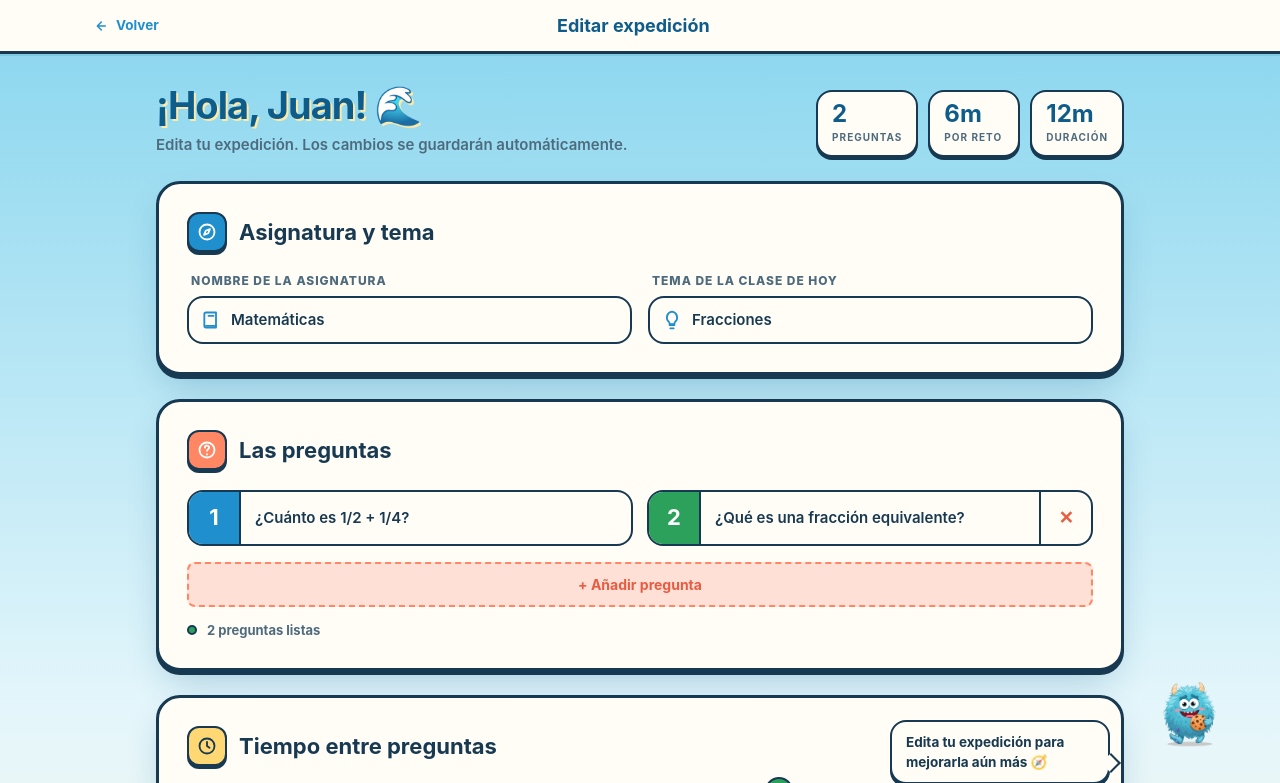
EditSession › valida que haya mínimo 1 pregunta
Clear the 3rd field with placeholder "Pregunta 1…" at (436, 518), box [241,492,631,544]
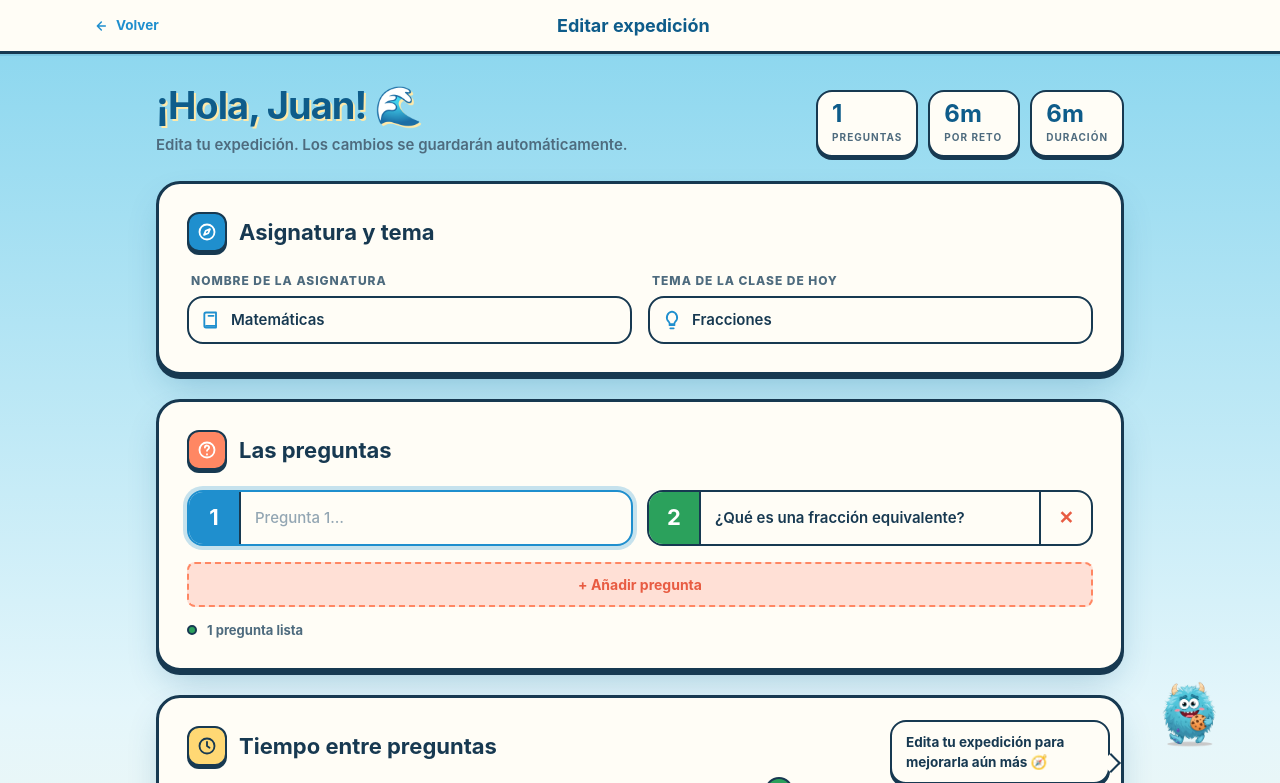
Clear the 3rd field with placeholder "Pregunta 2…" at (870, 518), box [701,492,1039,544]
(page scrolled)
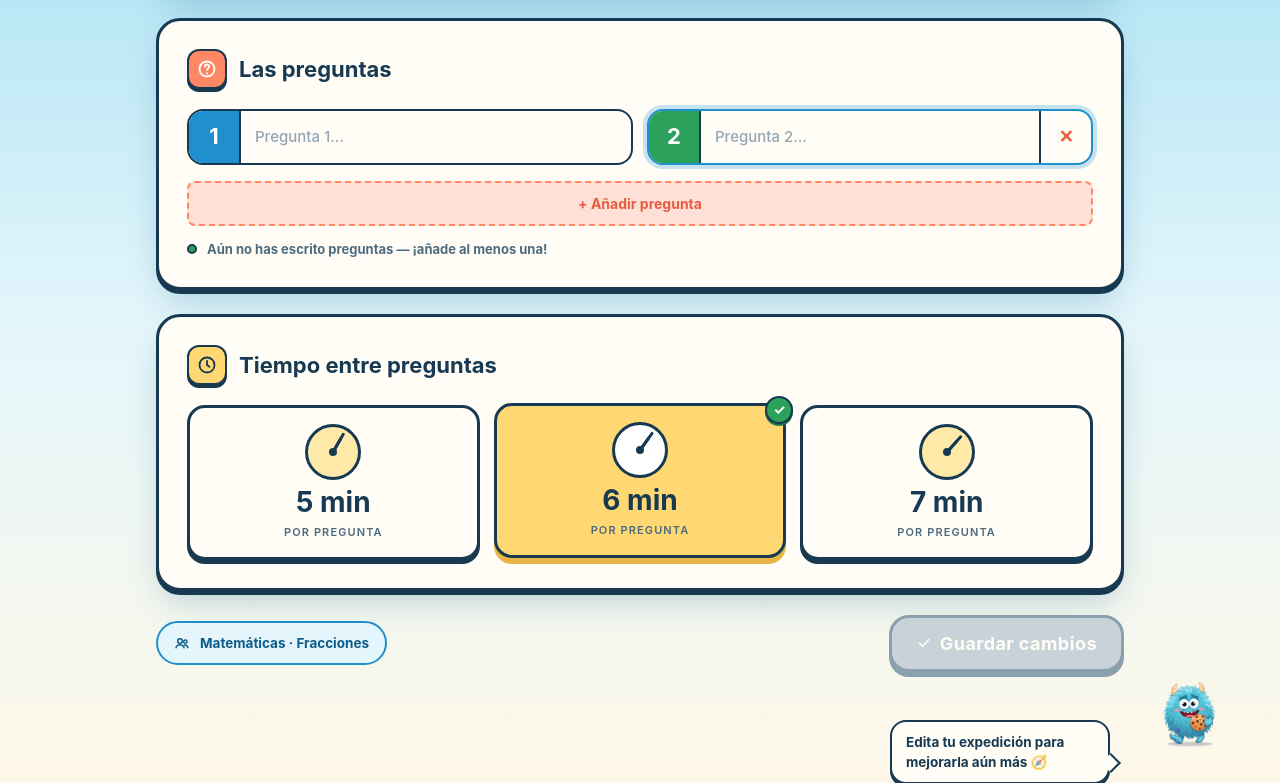
Check: the button "Guardar cambios" is disabled, box [889,614,1124,672]
